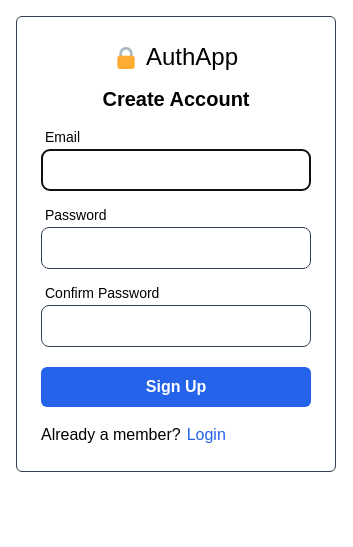
Test: AccountApp › register › validation › email, password, and password confirmation are required
Expected: the heading "AuthApp" is shown, [146,41,238,73]
Click the button "Sign Up". click: (176, 387)
box: [41,367,311,407]
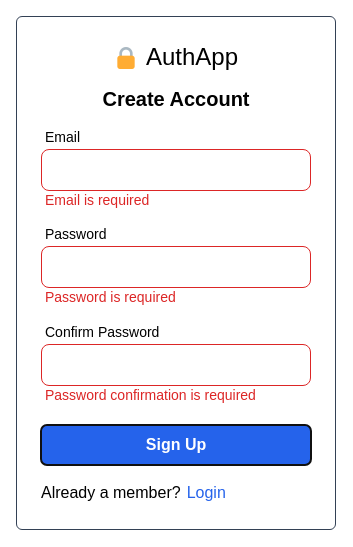
Result: the text "Email is required" is shown at [45,192,149,208]
Result: the text "Password is required" is shown at [45,289,176,305]
Result: the text "Password confirmation is required" is shown at [45,386,256,402]
